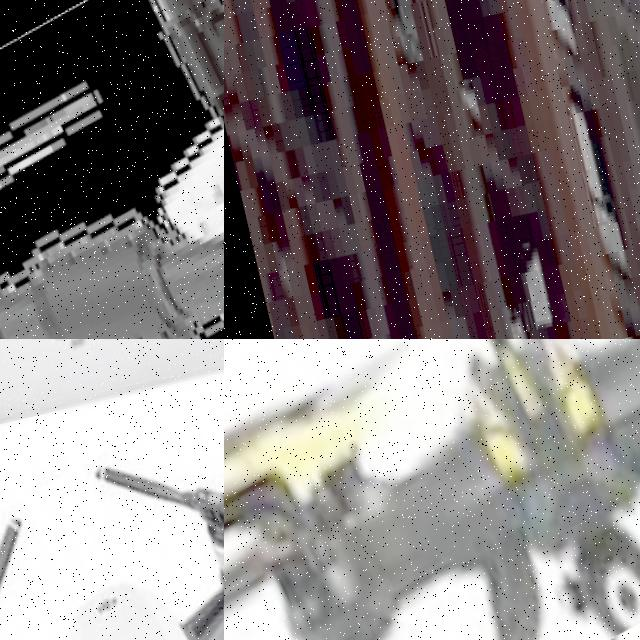drone: (224, 339, 640, 640), (0, 0, 224, 339), (0, 387, 224, 640)
